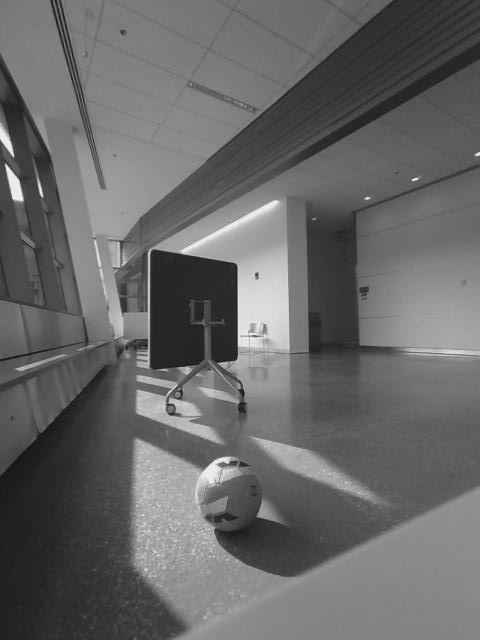ball: (193, 455, 265, 531)
